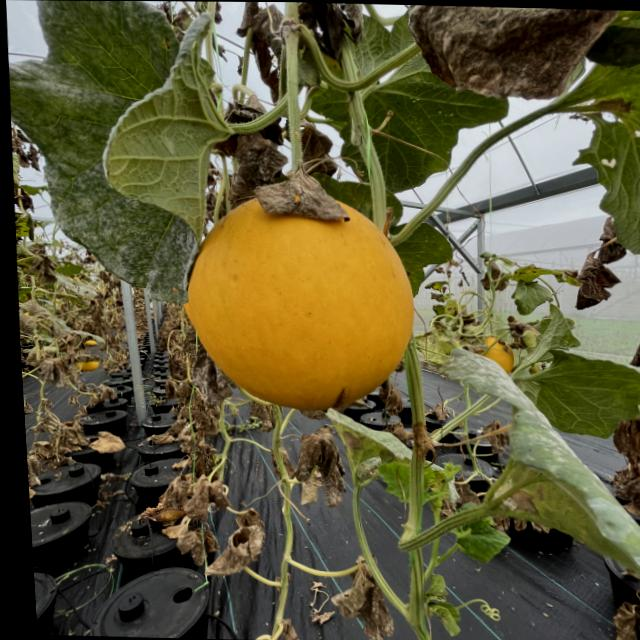alternaria leaf blight: (567, 50, 640, 252)
bacterial wilt: (400, 4, 622, 108), (252, 175, 355, 226), (569, 230, 624, 321), (589, 439, 640, 530), (19, 327, 86, 390), (287, 426, 348, 494), (132, 471, 194, 527), (293, 2, 357, 51), (339, 570, 385, 632), (235, 513, 277, 564), (301, 126, 343, 175), (611, 591, 640, 640), (24, 409, 63, 444), (205, 546, 245, 576), (26, 443, 50, 490), (193, 394, 225, 429), (164, 324, 195, 356), (626, 308, 640, 376), (89, 432, 122, 460), (186, 476, 215, 498)
downy mildew: (505, 344, 640, 438)
powdery mildew: (0, 0, 240, 291)
